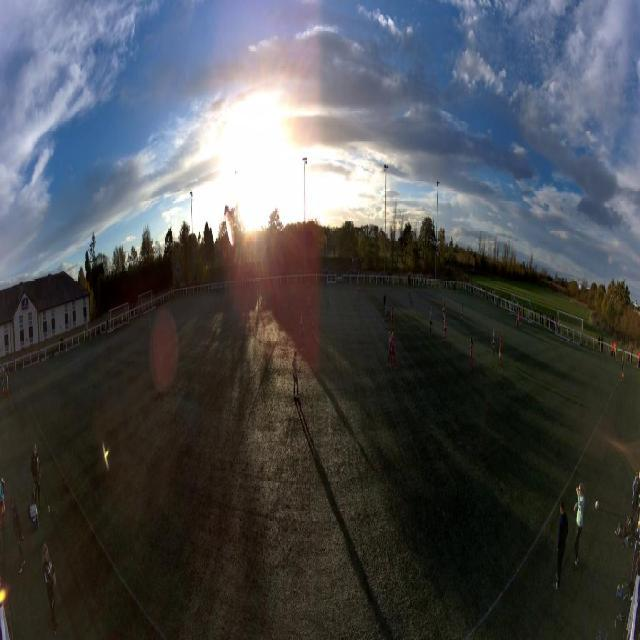ball: (521, 322, 522, 326)
player: (291, 351, 299, 400), (388, 332, 397, 370), (300, 313, 306, 351), (311, 309, 316, 341), (492, 328, 497, 356), (469, 338, 473, 372), (499, 334, 503, 365), (443, 315, 447, 342), (384, 302, 388, 328), (442, 299, 446, 321), (148, 315, 152, 337), (430, 308, 433, 336), (391, 308, 394, 330), (307, 294, 310, 316), (461, 304, 464, 325), (383, 292, 386, 312), (327, 287, 330, 305), (410, 289, 413, 307), (518, 310, 520, 327), (409, 286, 411, 301), (516, 317, 518, 326), (358, 282, 359, 296)
